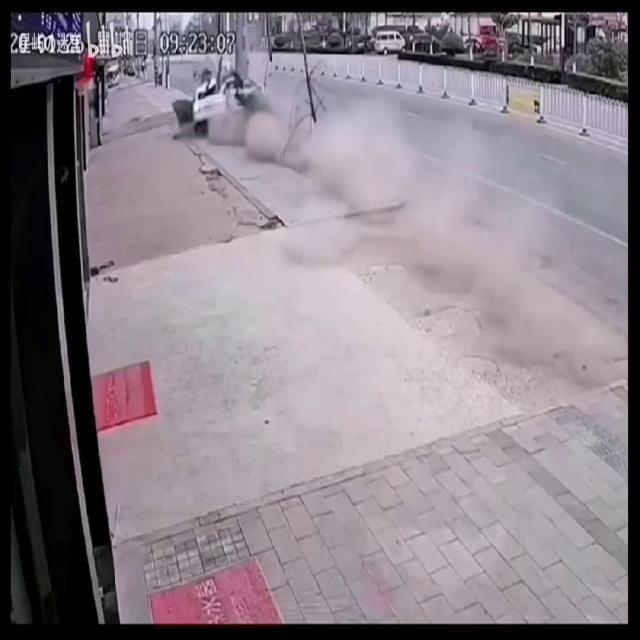single accident: (164, 56, 304, 157)
